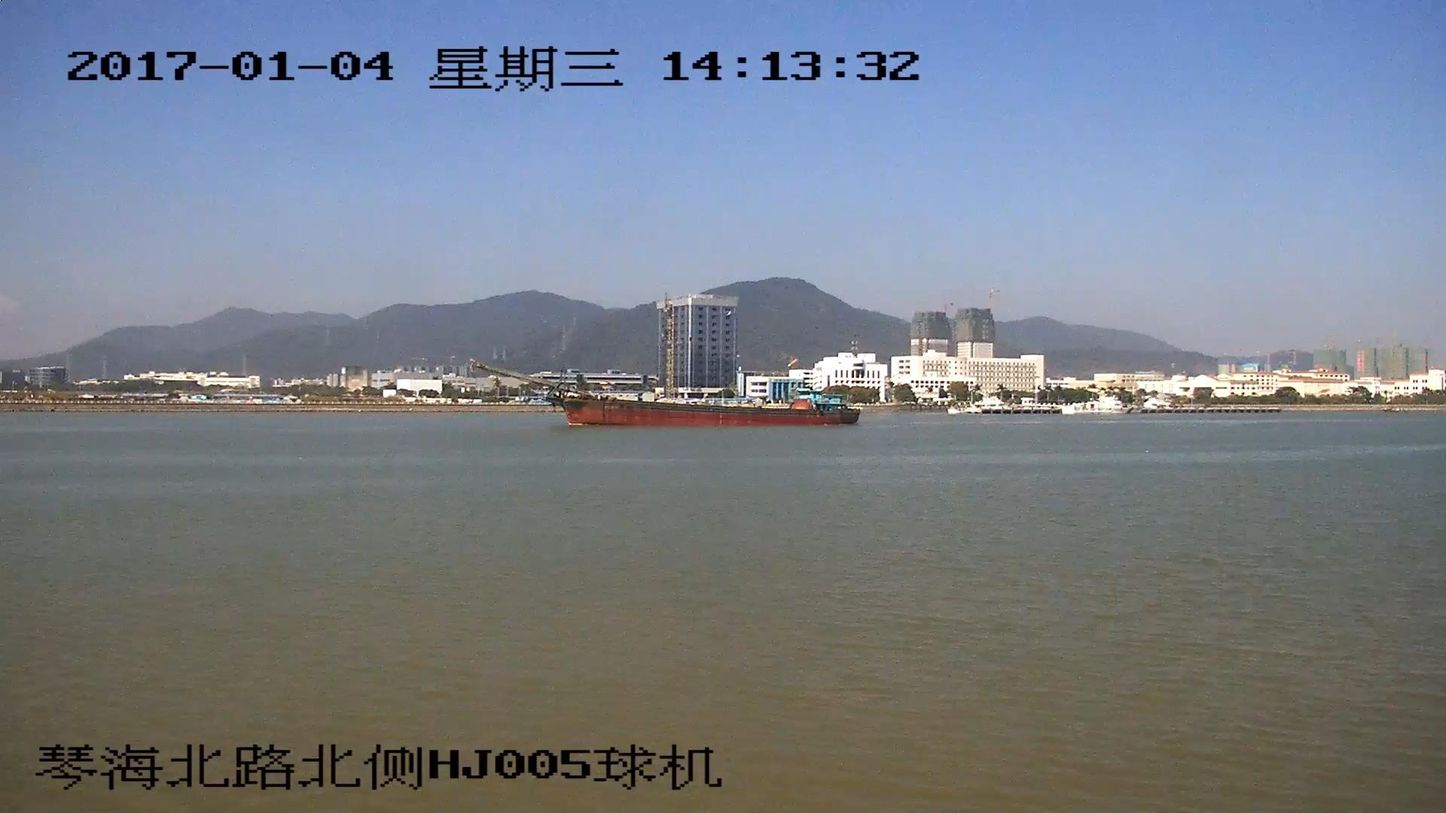bulk cargo carrier: (475, 363, 857, 426)
